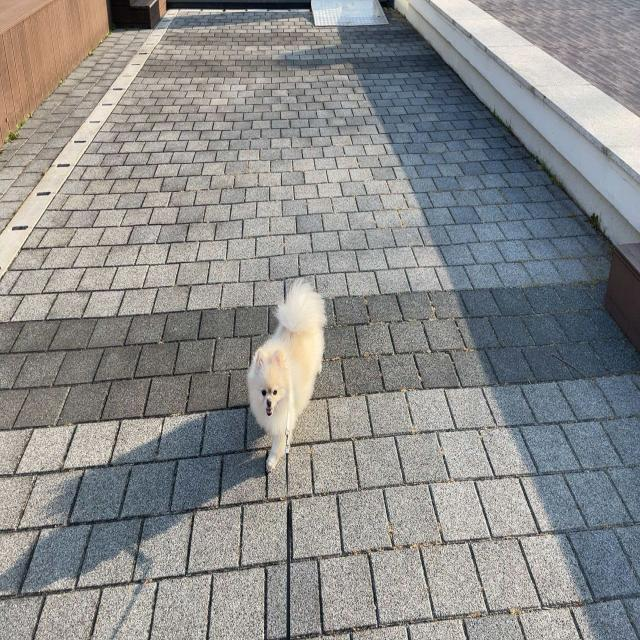Dog: (247, 278, 327, 474)
